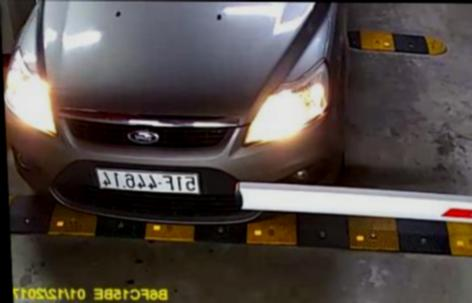License_Plate: (93, 166, 205, 197)
